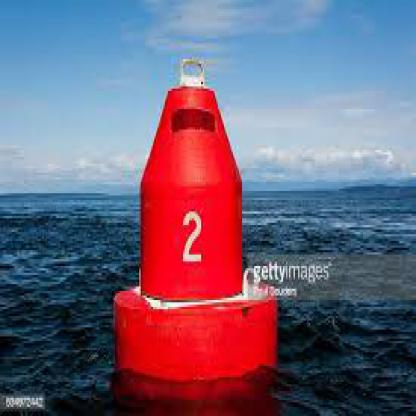buoy: (101, 48, 294, 388)
